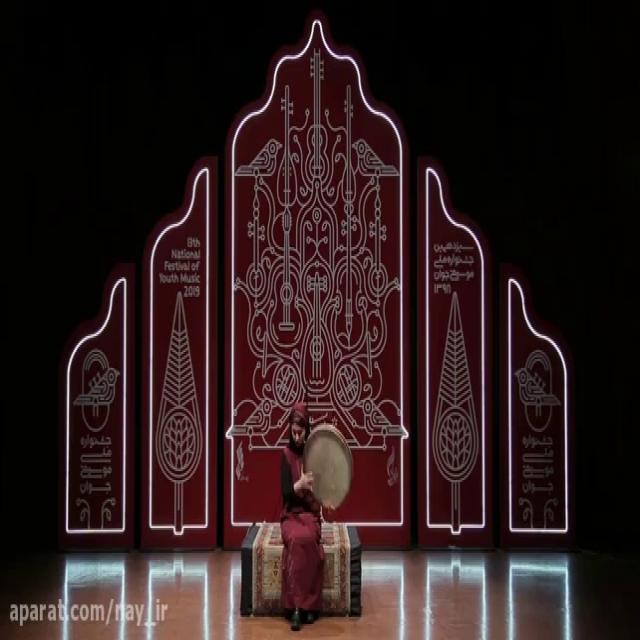Daf: (303, 424, 354, 514)
